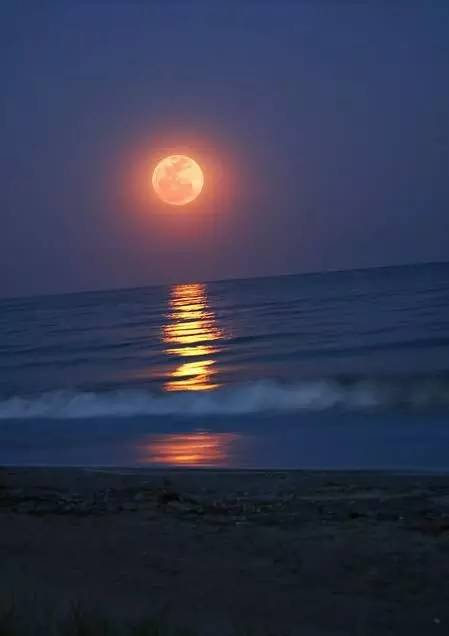moon: (151, 153, 205, 207)
